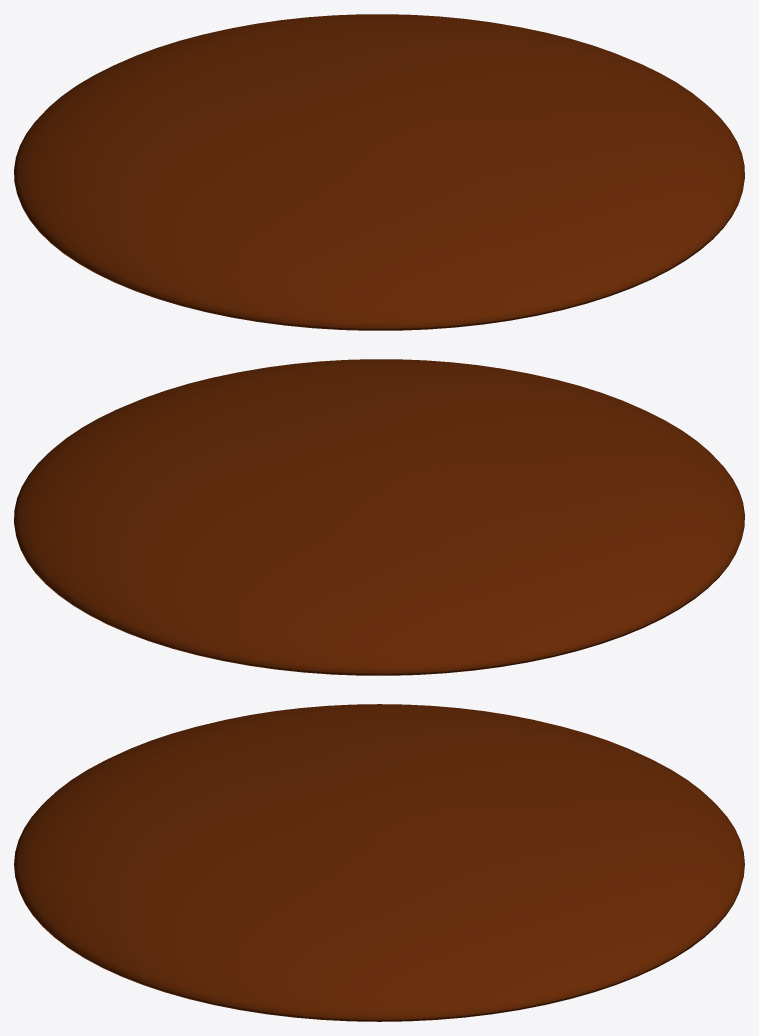
The model's file is MushroomAni3.fbx.
The picture shows the model from 3 angles, top to bottom: view 1: azimuth 30°, elevation 25°; view 2: azimuth 150°, elevation 25°; view 3: azimuth 270°, elevation 25°; orthographic projection.
Visible parts, largest first — view 1: polySurface2; view 2: polySurface2; view 3: polySurface2.
Part boxes in pixels (x1,y1,x2,y2): polySurface2: (14, 14, 744, 330); polySurface2: (14, 359, 744, 675); polySurface2: (14, 704, 744, 1021).
Bounding box in the file's own units: 8.47 × 1.45 × 8.47.
